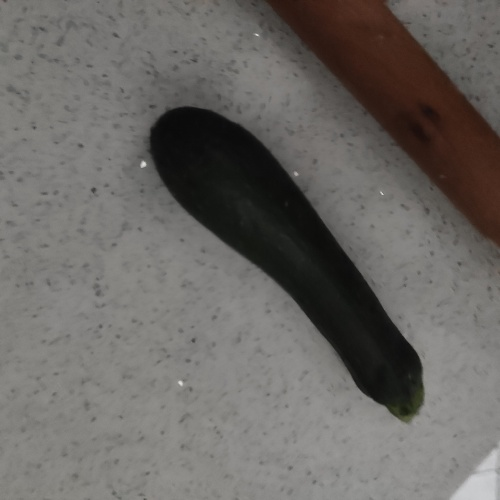zucchine: (150, 110, 435, 422)
